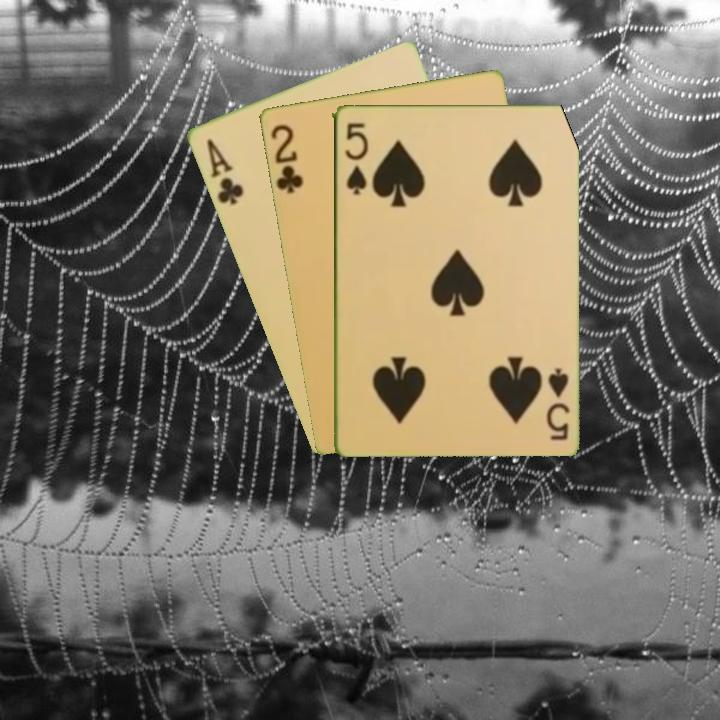2c: (266, 120, 306, 196)
5s: (542, 363, 571, 442), (341, 119, 369, 198)
Ac: (202, 135, 246, 208)
